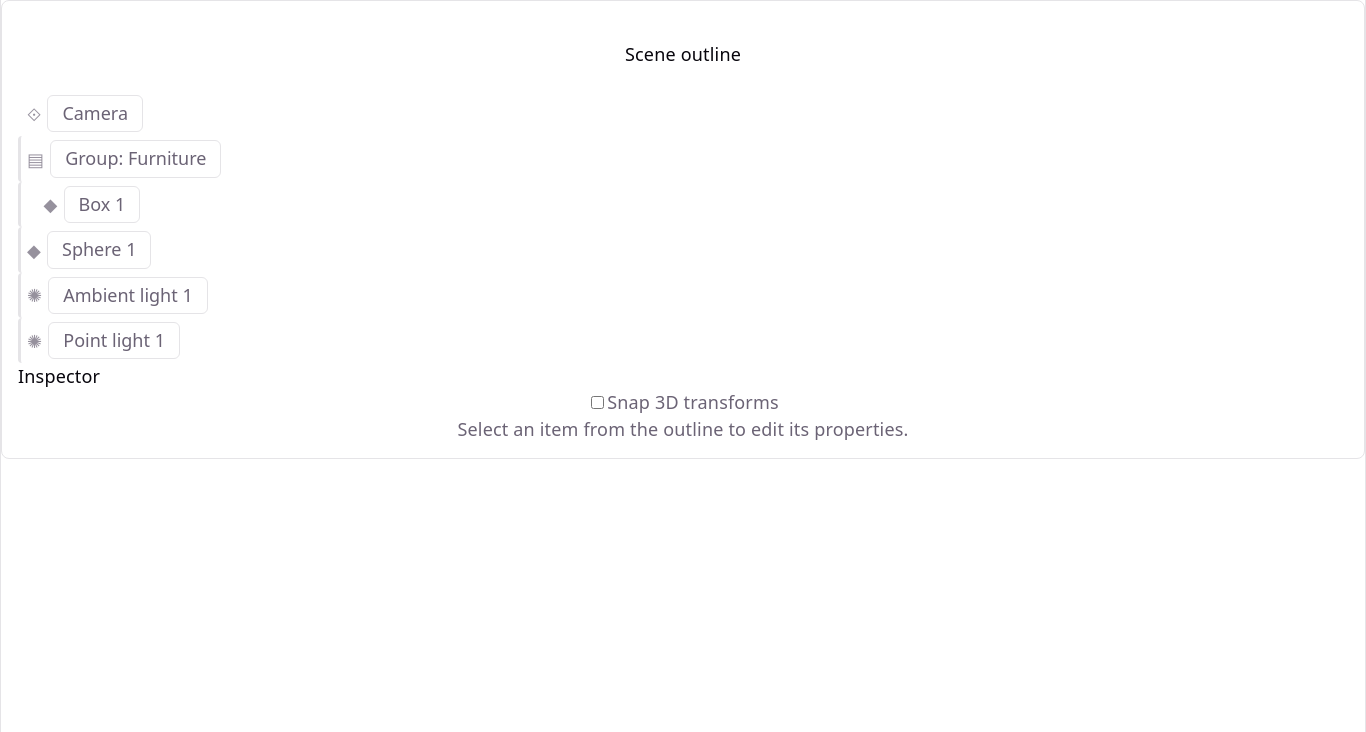
it: Outline3DInspector › shows a light's position field only for point lights
Click the button "Ambient light 1".
click(128, 295)  # box [48,276,208,314]
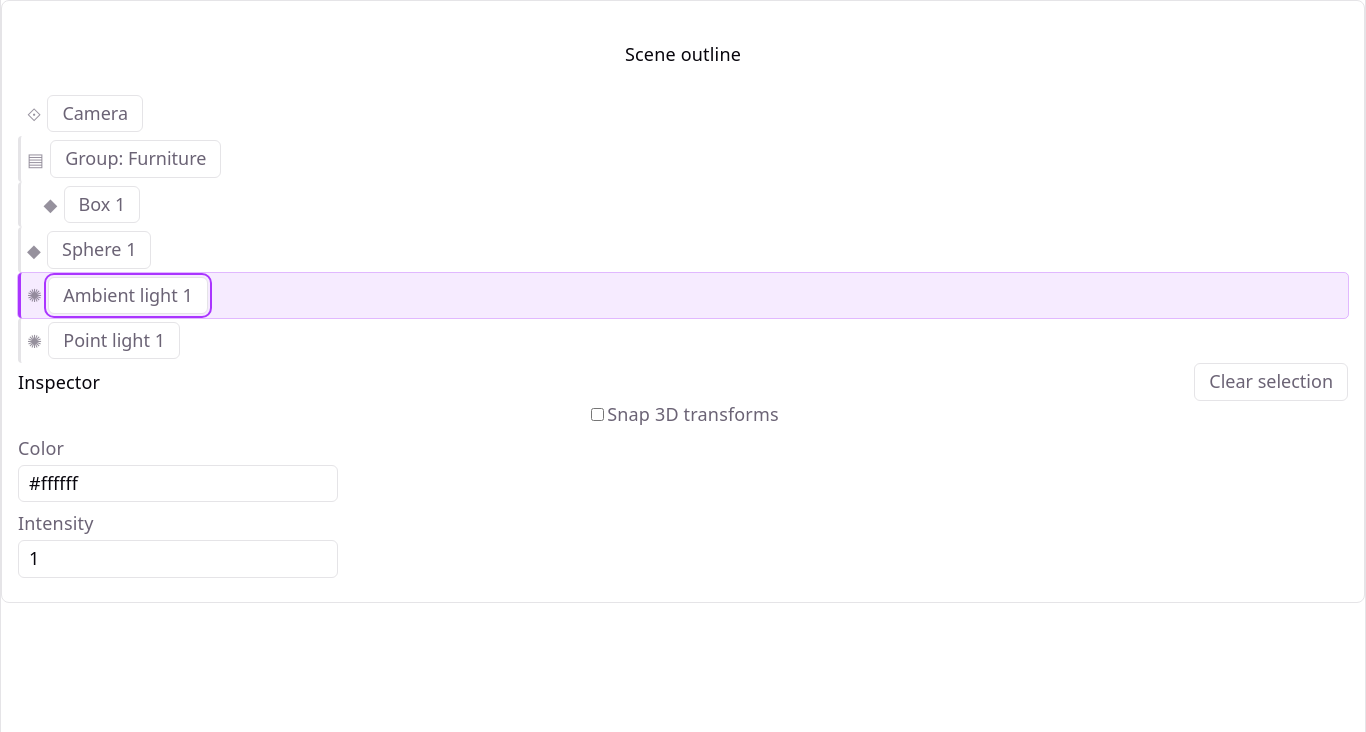
Expected: the field labelled "Position X" is not shown
Click the button "Point light 1".
click(114, 341)  # box [48,322,180,359]
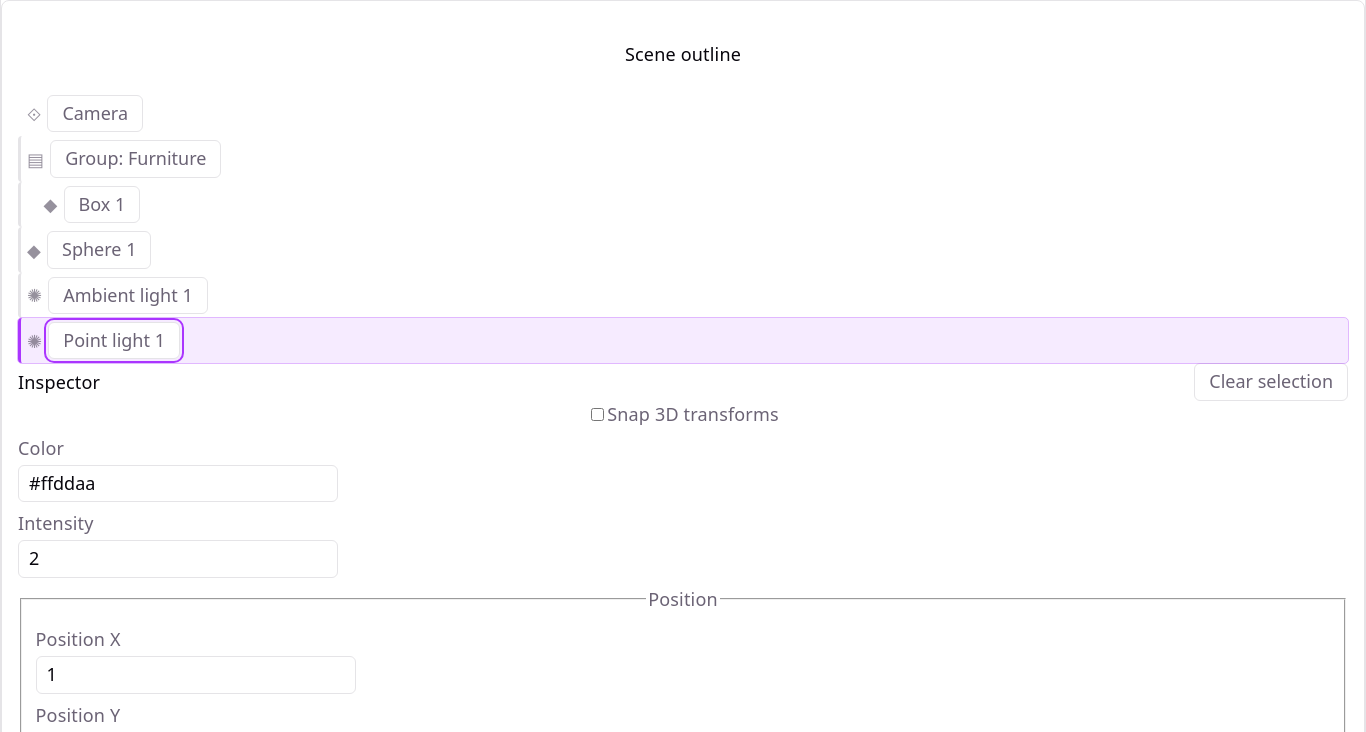
Expected: the number field labelled "Position X" holds "1", [36,656,356,694]
